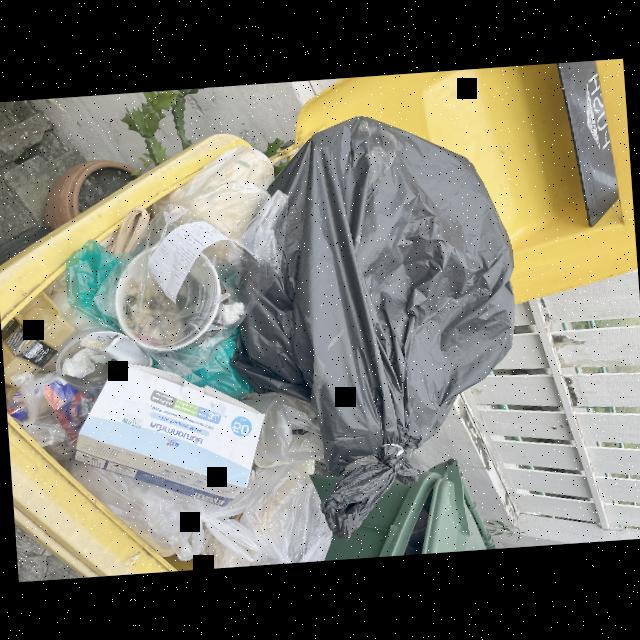cardboard_box: (66, 352, 270, 516)
plastic_bag: (218, 106, 530, 545), (142, 139, 296, 331), (66, 442, 251, 569), (193, 460, 334, 569), (37, 205, 155, 332), (146, 324, 252, 407), (8, 366, 98, 452), (238, 389, 325, 467), (61, 234, 130, 328)
plastic_box: (0, 290, 77, 385)
plastic_cup: (110, 242, 224, 355), (52, 321, 148, 392)
scrap_paper: (220, 302, 244, 326)
